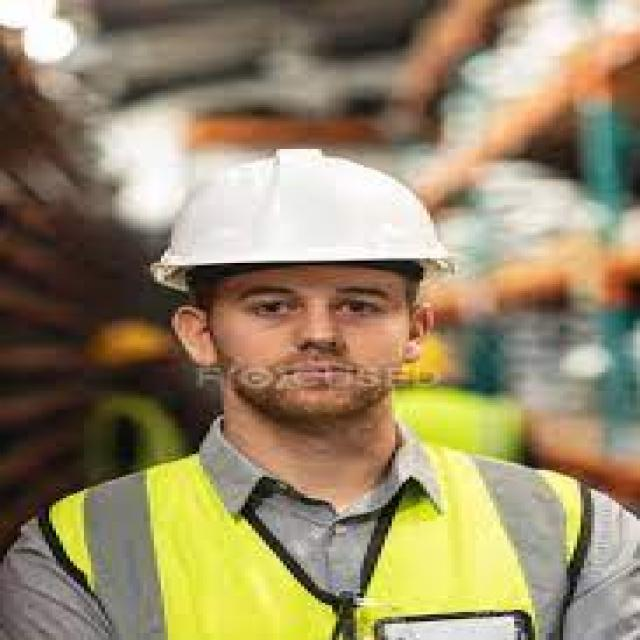Reflective-Jacket: (41, 437, 608, 640)
Safety-Helmet: (150, 142, 466, 284)
